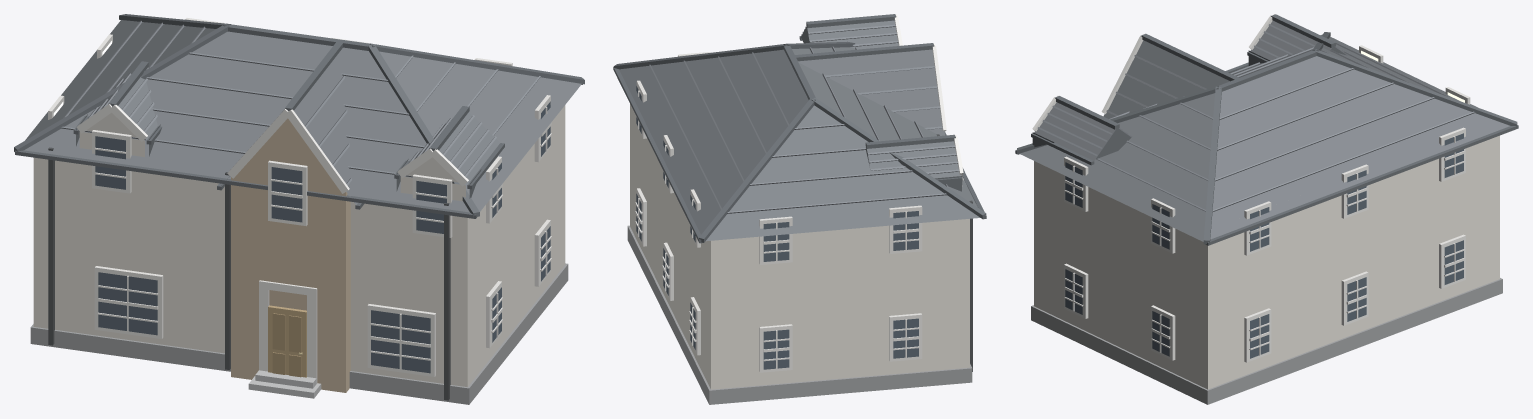
3 renders of one model, left to right at view 1: azimuth 30°, elevation 25°; view 2: azimuth 150°, elevation 25°; view 3: azimuth 270°, elevation 25°, orthographic. The views are drawn at different scales.
Visible parts, largest first — view 1: harl_cream, slate, larch, frame, slate_dk, plinth, slate_lt, pipe, window_glass_005, window_glass_004, door_wood_p, window_glass_003 (+5 smaller); view 2: slate, harl_cream, slate_dk, frame, plinth, slate_lt, window_glass_006, window_glass_008, window_glass_007, window_glass_009, pipe; view 3: harl_cream, slate, slate_dk, frame, plinth, slate_lt, window_glass_014, window_glass_016, window_glass_018, window_glass_012, window_glass_010, window_glass_015 (+4 smaller).
Boxes of the visible parts, <box> form: harl_cream: <box>33,105,565,386</box>; slate: <box>24,20,581,212</box>; larch: <box>231,118,350,392</box>; frame: <box>48,18,551,383</box>; slate_dk: <box>14,14,584,218</box>; plinth: <box>30,263,568,404</box>; slate_lt: <box>61,20,540,185</box>; pipe: <box>48,147,450,400</box>; window_glass_005: <box>371,310,430,373</box>; window_glass_004: <box>98,272,157,335</box>; door_wood_p: <box>272,313,301,377</box>; window_glass_003: <box>271,167,302,222</box>; slate: <box>619,20,980,241</box>; harl_cream: <box>630,104,969,389</box>; slate_dk: <box>613,14,986,243</box>; frame: <box>635,14,963,372</box>; plinth: <box>627,225,972,404</box>; slate_lt: <box>649,24,959,213</box>; window_glass_006: <box>763,329,789,369</box>; window_glass_008: <box>893,318,918,358</box>; window_glass_007: <box>763,222,789,261</box>; window_glass_009: <box>893,211,918,250</box>; pipe: <box>936,134,972,371</box>; harl_cream: <box>1034,135,1499,389</box>; slate: <box>1019,20,1509,241</box>; slate_dk: <box>1015,14,1518,245</box>; frame: <box>1032,14,1470,362</box>; plinth: <box>1031,278,1502,404</box>; slate_lt: <box>1037,24,1474,212</box>; window_glass_014: <box>1250,314,1269,358</box>; window_glass_016: <box>1347,277,1366,321</box>; window_glass_018: <box>1444,240,1463,284</box>; window_glass_012: <box>1152,311,1169,356</box>; window_glass_010: <box>1065,269,1082,314</box>; window_glass_015: <box>1250,207,1269,251</box>.
Size of the model in its own units: 14.29 by 7.57 by 14.49.
